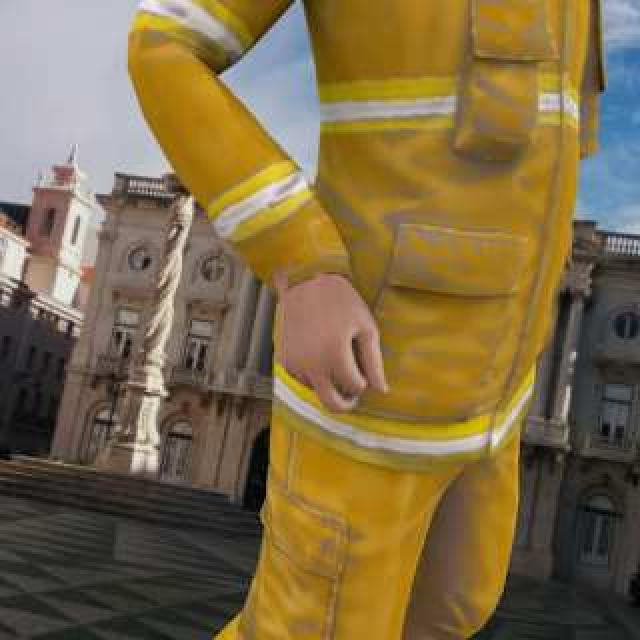not-gloved: (256, 268, 406, 425)
